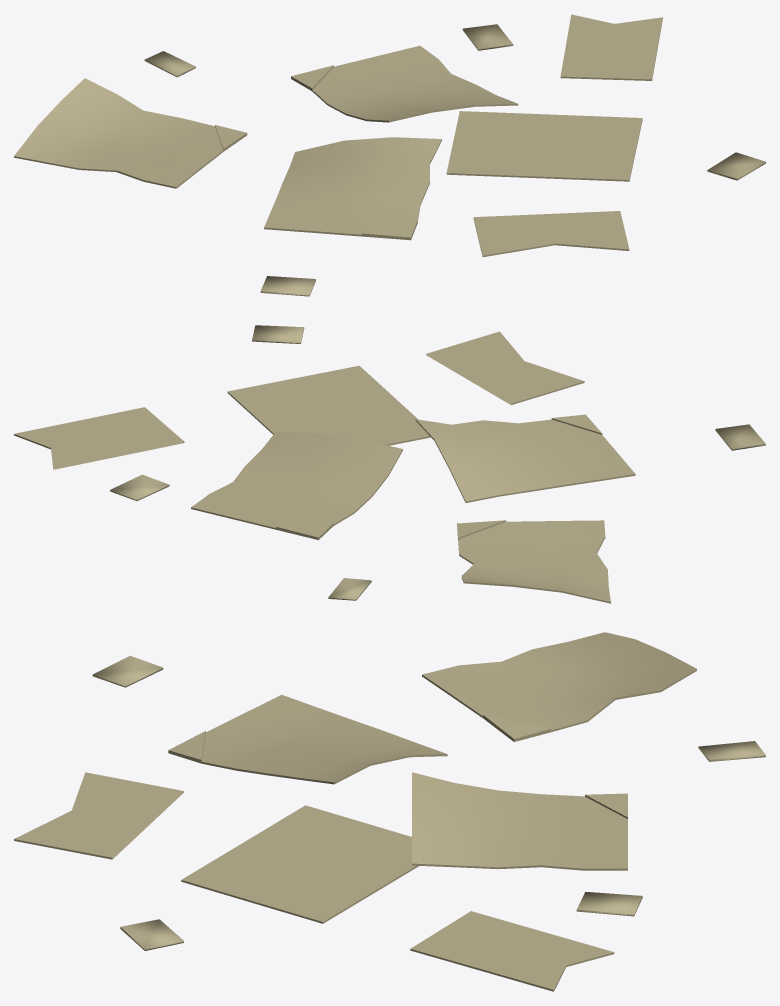
Rendered from paper.fbx.
3 renders of one model, top to bottom at view 1: azimuth 30°, elevation 25°; view 2: azimuth 150°, elevation 25°; view 3: azimuth 270°, elevation 25°, orthographic. The views are drawn at different scales.
Parts seen in each view (by area): view 1: Cube.013; view 2: Cube.013; view 3: Cube.013.
Part boxes in pixels (x1,y1,x2,y2): Cube.013: [14, 14, 765, 296]; Cube.013: [14, 325, 765, 603]; Cube.013: [14, 632, 765, 991].
Size of the model in its own units: 226 by 256 by 10.35.
